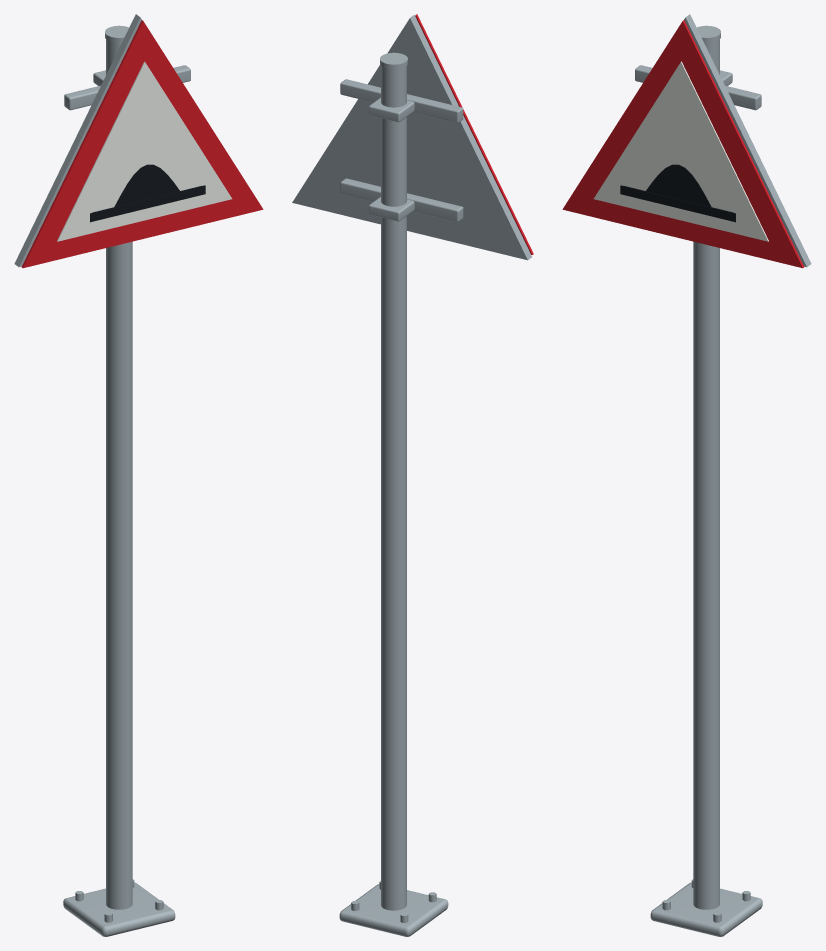
Rendered from DS_Sign_Bump.glb.
The picture shows the model from 3 angles, left to right: view 1: azimuth 30°, elevation 25°; view 2: azimuth 150°, elevation 25°; view 3: azimuth 330°, elevation 25°; orthographic projection. The views are drawn at different scales.
Parts seen in each view (by area): view 1: Post.025, Face_Border.018, Face_Field.018, BasePlate.025, Plate_Back.033, BumpShape, BumpRoad, RearRail.054; view 2: Post.025, Plate_Back.033, BasePlate.025, RearRail.053, RearRail.054, Face_Border.018, PostClamp.049, PostClamp.050; view 3: Post.025, Face_Border.018, Face_Field.018, BasePlate.025, Plate_Back.033, BumpShape, BumpRoad, RearRail.054.
Part boxes in pixels (box(x1,y1,x2,y2)): Post.025: box(106, 39, 132, 909); Face_Border.018: box(21, 20, 263, 268); Face_Field.018: box(57, 61, 232, 241); BasePlate.025: box(63, 882, 175, 936); Plate_Back.033: box(14, 14, 141, 267); BumpShape: box(92, 164, 201, 212); BumpRoad: box(90, 185, 205, 222); RearRail.054: box(64, 65, 190, 110); Post.025: box(381, 66, 406, 910); Plate_Back.033: box(292, 14, 531, 260); BasePlate.025: box(339, 884, 448, 936); RearRail.053: box(340, 178, 463, 221); RearRail.054: box(340, 79, 463, 122); Face_Border.018: box(415, 14, 533, 254); PostClamp.049: box(368, 196, 414, 221); PostClamp.050: box(368, 97, 414, 122); Post.025: box(693, 39, 719, 909); Face_Border.018: box(562, 20, 804, 268); Face_Field.018: box(593, 61, 768, 241); BasePlate.025: box(650, 882, 762, 936); Plate_Back.033: box(684, 14, 811, 267); BumpShape: box(624, 164, 733, 212); BumpRoad: box(620, 185, 735, 222); RearRail.054: box(635, 65, 761, 110).
Bounding box in the file's own units: 0.7967 × 2.86 × 0.282.
